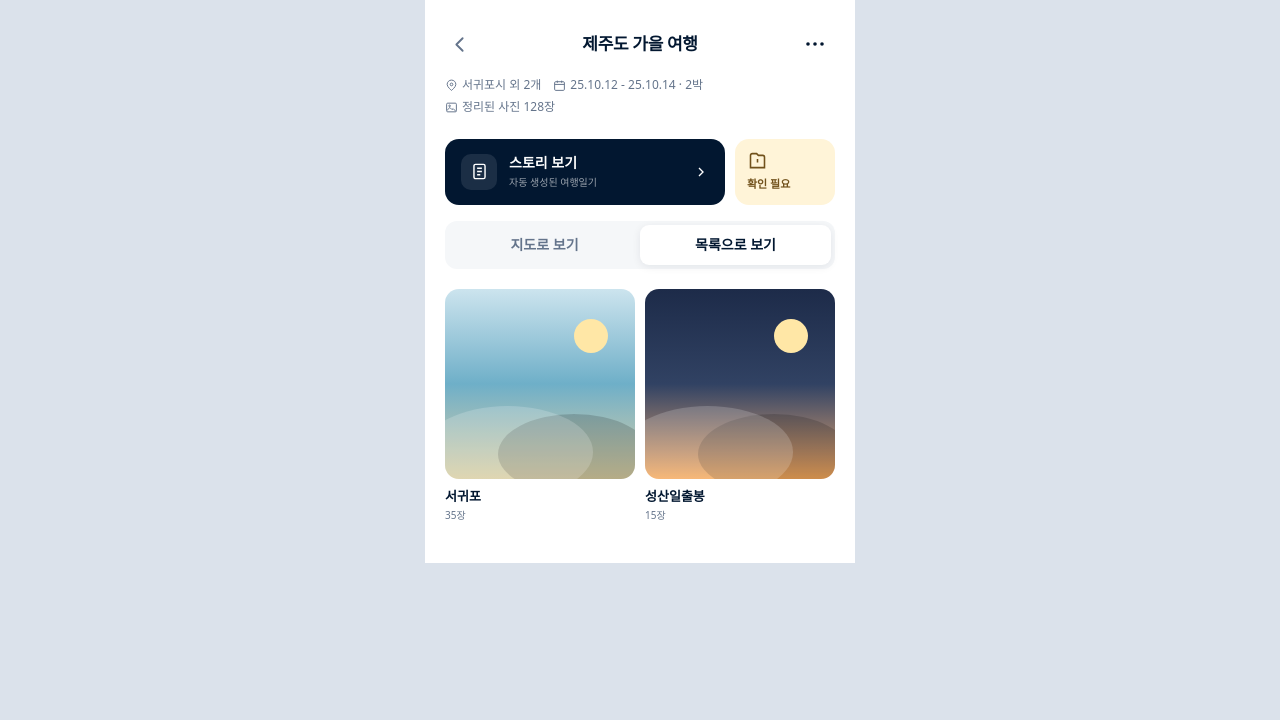
Test: TripDetailPage › 정리 중인 여행이면 삭제하지 않고 다이얼로그를 닫는다
The width and height of the screenshot is (1280, 720).
Click the button named "여행 더보기 메뉴".
click(815, 44)  # box x1=795 y1=24 x2=835 y2=64
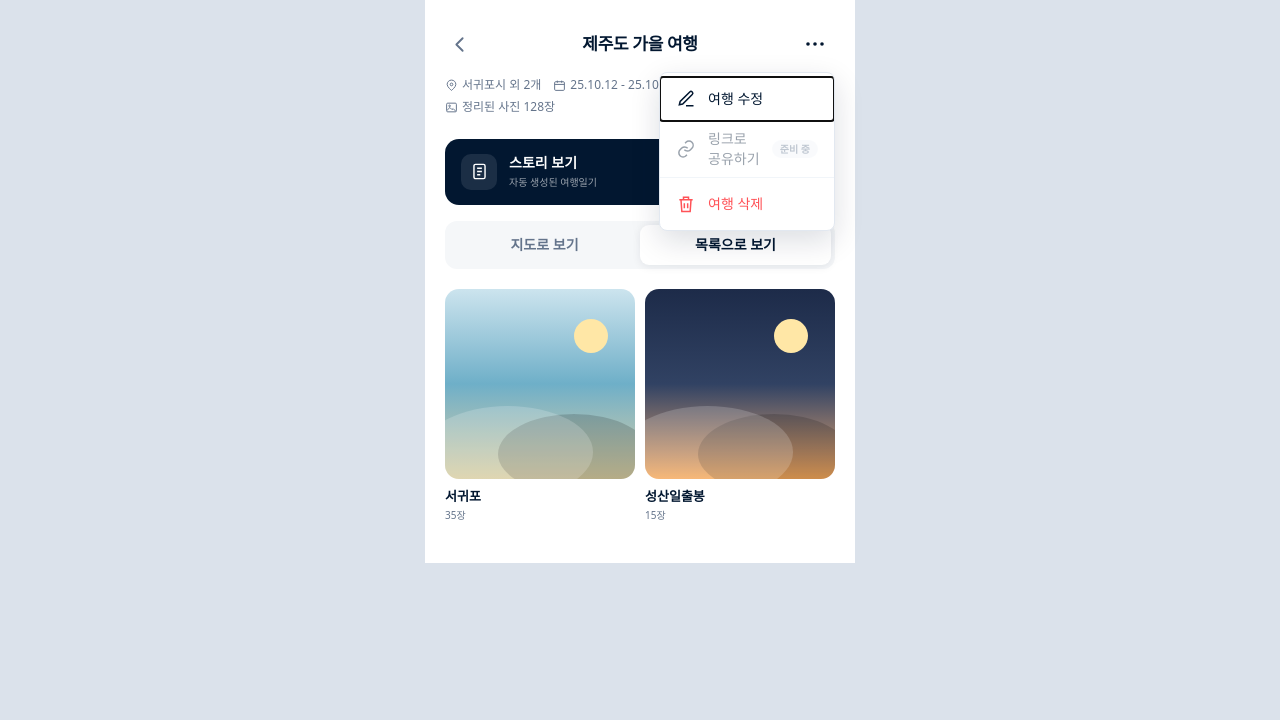
Click the menu item "여행 삭제".
click(747, 204)  # box x1=660 y1=182 x2=834 y2=226
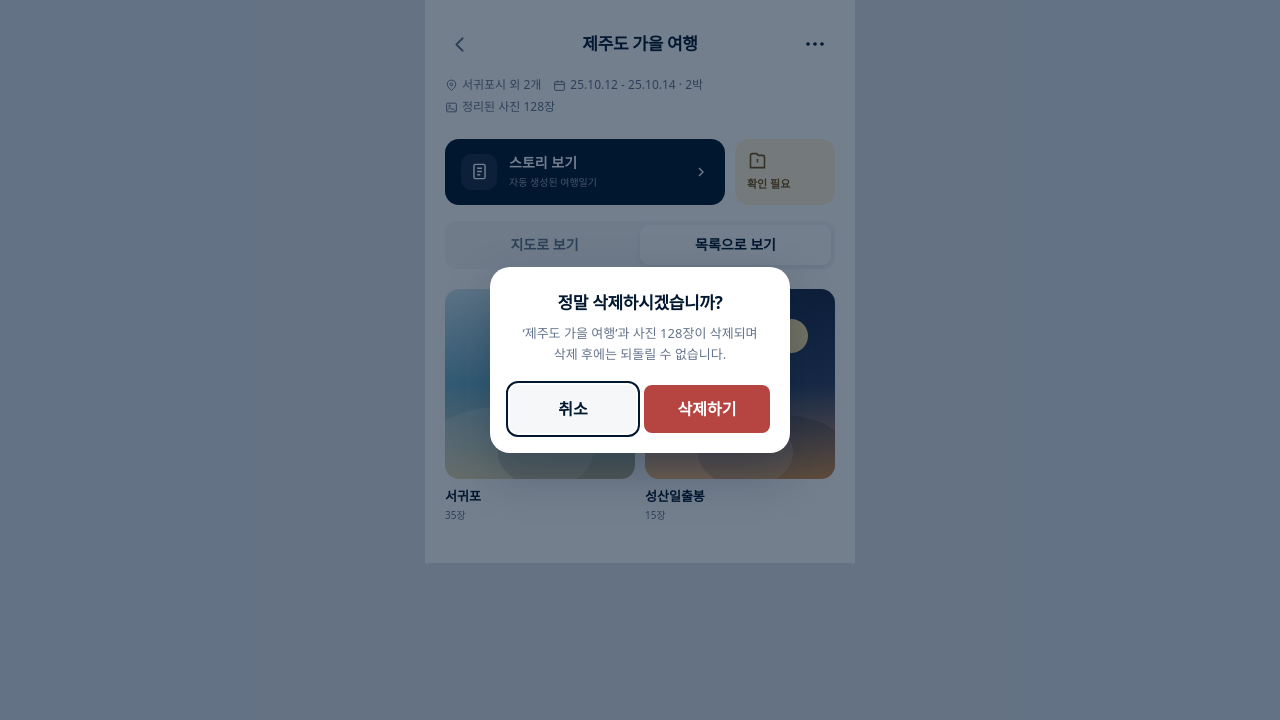
Click the button "삭제하기".
click(707, 409)  # box x1=644 y1=385 x2=770 y2=433
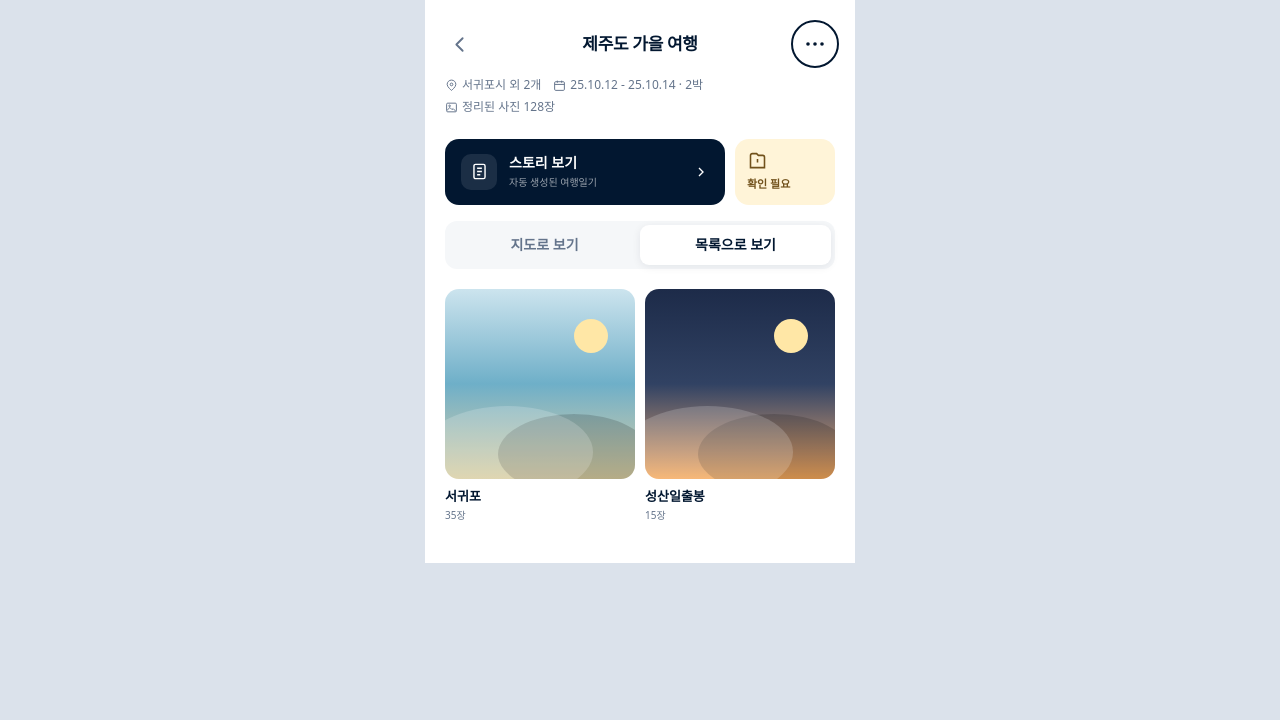
Now the dialog is gone
